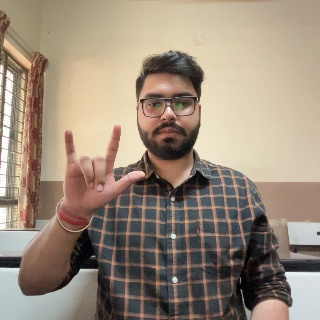I Love You: (58, 125, 146, 228)
